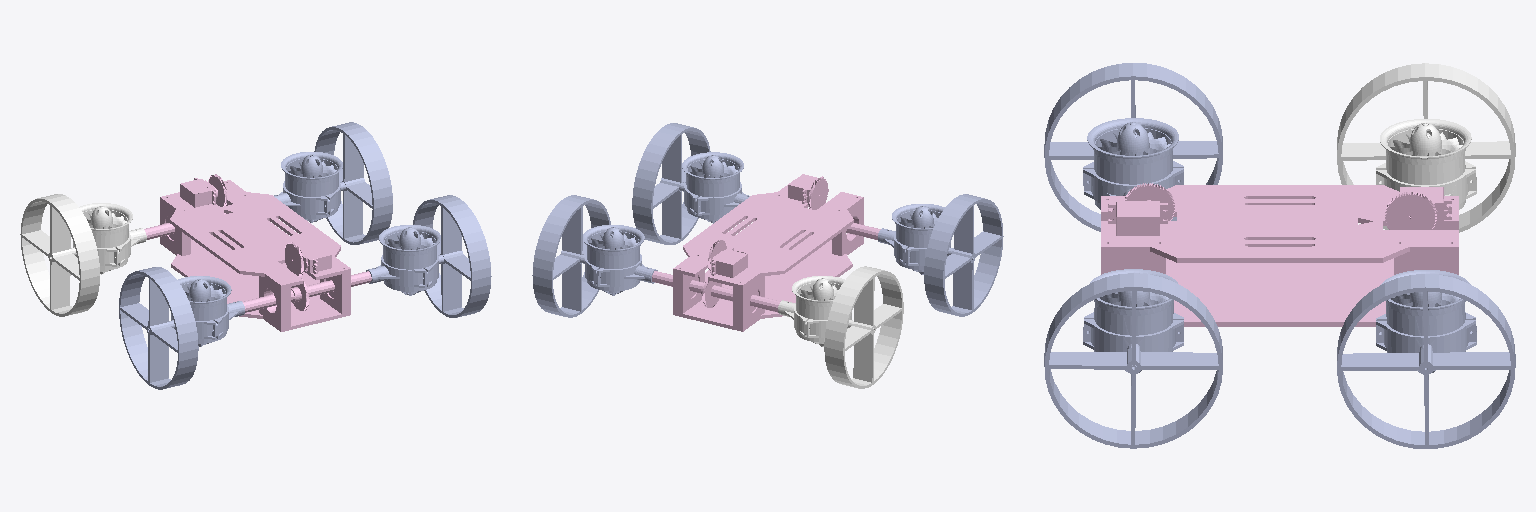
robot.urdf — djidrone:
<?xml version="1.0" encoding="utf-8"?>
<!-- This URDF was automatically created by SolidWorks to URDF Exporter! Originally created by [author] ([email redacted]) 
     Commit Version: 1.5.1-0-g916b5db  Build Version: 1.5.7152.31018
     For more information, please see http://wiki.ros.org/sw_urdf_exporter -->
<robot
  name="djidrone">
  <link
    name="base_link">
    <inertial>
      <origin
        xyz="0.00045012 0.0014743 0.033499"
        rpy="0 0 0" />
      <mass
        value="0.73719" />
      <inertia
        ixx="0.0035866"
        ixy="1.8472E-05"
        ixz="7.2233E-12"
        iyy="0.0010313"
        iyz="-3.563E-11"
        izz="0.0044799" />
    </inertial>
    <visual>
      <origin
        xyz="0 0 0"
        rpy="0 0 0" />
      <geometry>
        <mesh
          filename="package://djidrone/meshes/base_link.STL" />
      </geometry>
      <material
        name="">
        <color
          rgba="0.98 0.81961 0.93333 1" />
      </material>
    </visual>
    <collision>
      <origin
        xyz="0 0 0"
        rpy="0 0 0" />
      <geometry>
        <mesh
          filename="package://djidrone/meshes/base_link.STL" />
      </geometry>
    </collision>
  </link>
  <link
    name="Link_1">
    <inertial>
      <origin
        xyz="0.0345572088506268 -7.23694866028579E-05 -0.055455397732386"
        rpy="0 0 0" />
      <mass
        value="0.185609211909209" />
      <inertia
        ixx="0.000523062852756492"
        ixy="7.8420320476395E-08"
        ixz="-1.64731504693032E-08"
        iyy="0.000283698252723688"
        iyz="1.78563570785078E-07"
        izz="0.000308732652704659" />
    </inertial>
    <visual>
      <origin
        xyz="0 0 0"
        rpy="0 0 0" />
      <geometry>
        <mesh
          filename="package://djidrone/meshes/Link_1.STL" />
      </geometry>
      <material
        name="">
        <color
          rgba="0.792156862745098 0.819607843137255 0.933333333333333 1" />
      </material>
    </visual>
    <collision>
      <origin
        xyz="0 0 0"
        rpy="0 0 0" />
      <geometry>
        <mesh
          filename="package://djidrone/meshes/Link_1.STL" />
      </geometry>
    </collision>
  </link>
  <joint
    name="Joint_1"
    type="revolute">
    <origin
      xyz="0.16433 -0.1349 0.088374"
      rpy="0 0 0" />
    <parent
      link="base_link" />
    <child
      link="Link_1" />
    <axis
      xyz="0 0.0072518 0.99997" />
    <limit
      lower="0"
      upper="0"
      effort="0"
      velocity="0" />
  </joint>
  <link
    name="Link_2">
    <inertial>
      <origin
        xyz="-0.0345571251485287 0.000297409153489081 -0.0554545518705187"
        rpy="0 0 0" />
      <mass
        value="0.185609617076206" />
      <inertia
        ixx="0.00052306294301254"
        ixy="7.83380324675762E-08"
        ixz="1.67919660141335E-08"
        iyy="0.000283700208118103"
        iyz="-2.80119334247063E-07"
        izz="0.000308730865320092" />
    </inertial>
    <visual>
      <origin
        xyz="0 0 0"
        rpy="0 0 0" />
      <geometry>
        <mesh
          filename="package://djidrone/meshes/Link_2.STL" />
      </geometry>
      <material
        name="">
        <color
          rgba="0.792156862745098 0.819607843137255 0.933333333333333 1" />
      </material>
    </visual>
    <collision>
      <origin
        xyz="0 0 0"
        rpy="0 0 0" />
      <geometry>
        <mesh
          filename="package://djidrone/meshes/Link_2.STL" />
      </geometry>
    </collision>
  </link>
  <joint
    name="Joint_2"
    type="revolute">
    <origin
      xyz="-0.1649 -0.13534 0.088369"
      rpy="0 0 0" />
    <parent
      link="base_link" />
    <child
      link="Link_2" />
    <axis
      xyz="0 -0.01131 0.99994" />
    <limit
      lower="0"
      upper="0"
      effort="0"
      velocity="0" />
  </joint>
  <link
    name="Link_3">
    <inertial>
      <origin
        xyz="0.033776683815557 0.000277292618304087 -0.0554548023957691"
        rpy="0 0 0" />
      <mass
        value="0.185609653178032" />
      <inertia
        ixx="0.000523062945959249"
        ixy="7.87062665675784E-08"
        ixz="-1.50012305772877E-08"
        iyy="0.000283700386265056"
        iyz="-2.88544353750535E-07"
        izz="0.000308730651378523" />
    </inertial>
    <visual>
      <origin
        xyz="0 0 0"
        rpy="0 0 0" />
      <geometry>
        <mesh
          filename="package://djidrone/meshes/Link_3.STL" />
      </geometry>
      <material
        name="">
        <color
          rgba="0.792156862745098 0.819607843137255 0.933333333333333 1" />
      </material>
    </visual>
    <collision>
      <origin
        xyz="0 0 0"
        rpy="0 0 0" />
      <geometry>
        <mesh
          filename="package://djidrone/meshes/Link_3.STL" />
      </geometry>
    </collision>
  </link>
  <joint
    name="Joint_3"
    type="revolute">
    <origin
      xyz="0.1665 0.1347 0.088371"
      rpy="0 0 0" />
    <parent
      link="base_link" />
    <child
      link="Link_3" />
    <axis
      xyz="0 -0.011407 0.99993" />
    <limit
      lower="0"
      upper="0"
      effort="0"
      velocity="0" />
  </joint>
  <link
    name="Link_4">
    <inertial>
      <origin
        xyz="0 0 0"
        rpy="0 0 0" />
      <mass
        value="0" />
      <inertia
        ixx="0"
        ixy="0"
        ixz="0"
        iyy="0"
        iyz="0"
        izz="0" />
    </inertial>
    <visual>
      <origin
        xyz="0 0 0"
        rpy="0 0 0" />
      <geometry>
        <mesh
          filename="package://djidrone/meshes/Link_4.STL" />
      </geometry>
      <material
        name="">
        <color
          rgba="1 1 1 1" />
      </material>
    </visual>
    <collision>
      <origin
        xyz="0 0 0"
        rpy="0 0 0" />
      <geometry>
        <mesh
          filename="package://djidrone/meshes/Link_4.STL" />
      </geometry>
    </collision>
  </link>
  <joint
    name="Joint_4"
    type="revolute">
    <origin
      xyz="-0.1635 0.13466 0.088371"
      rpy="0 0 0" />
    <parent
      link="base_link" />
    <child
      link="Link_4" />
    <axis
      xyz="0 -0.011407 0.99993" />
    <limit
      lower="0"
      upper="0"
      effort="0"
      velocity="0" />
  </joint>
</robot>

--- Facts derived from the render (not from the file) ---
3 views of the same robot in one strip: view 1: azimuth 30°, elevation 25°; view 2: azimuth 150°, elevation 25°; view 3: azimuth 270°, elevation 25° (orthographic).
Robot: djidrone — 5 links, 4 joints (4 revolute); root link base_link; default pose: every joint at zero.
Links seen in each view (by area): view 1: base_link, Link_4, Link_2, Link_1, Link_3; view 2: base_link, Link_4, Link_2, Link_3, Link_1; view 3: base_link, Link_3, Link_1, Link_2, Link_4.
Link boxes in pixels (bbox=[...]): base_link: bbox=[144, 174, 371, 331]; Link_4: bbox=[20, 194, 146, 316]; Link_2: bbox=[119, 267, 244, 389]; Link_1: bbox=[366, 195, 491, 317]; Link_3: bbox=[274, 122, 392, 244]; base_link: bbox=[652, 174, 880, 331]; Link_4: bbox=[778, 266, 903, 388]; Link_2: bbox=[878, 194, 1003, 316]; Link_3: bbox=[532, 195, 657, 317]; Link_1: bbox=[632, 123, 749, 244]; base_link: bbox=[1101, 183, 1458, 326]; Link_3: bbox=[1337, 270, 1515, 448]; Link_1: bbox=[1044, 269, 1222, 448]; Link_2: bbox=[1044, 63, 1222, 231]; Link_4: bbox=[1337, 63, 1515, 232].
Size in the robot's own frame: 0.4934 by 0.435 by 0.165 metres.
5 mesh visuals loaded from 5 distinct referenced files (5 binary STL).